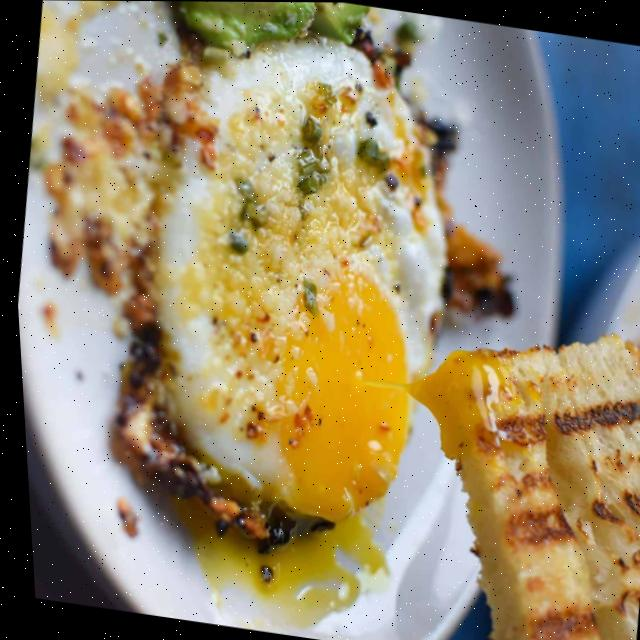Egg: (148, 39, 442, 521)
